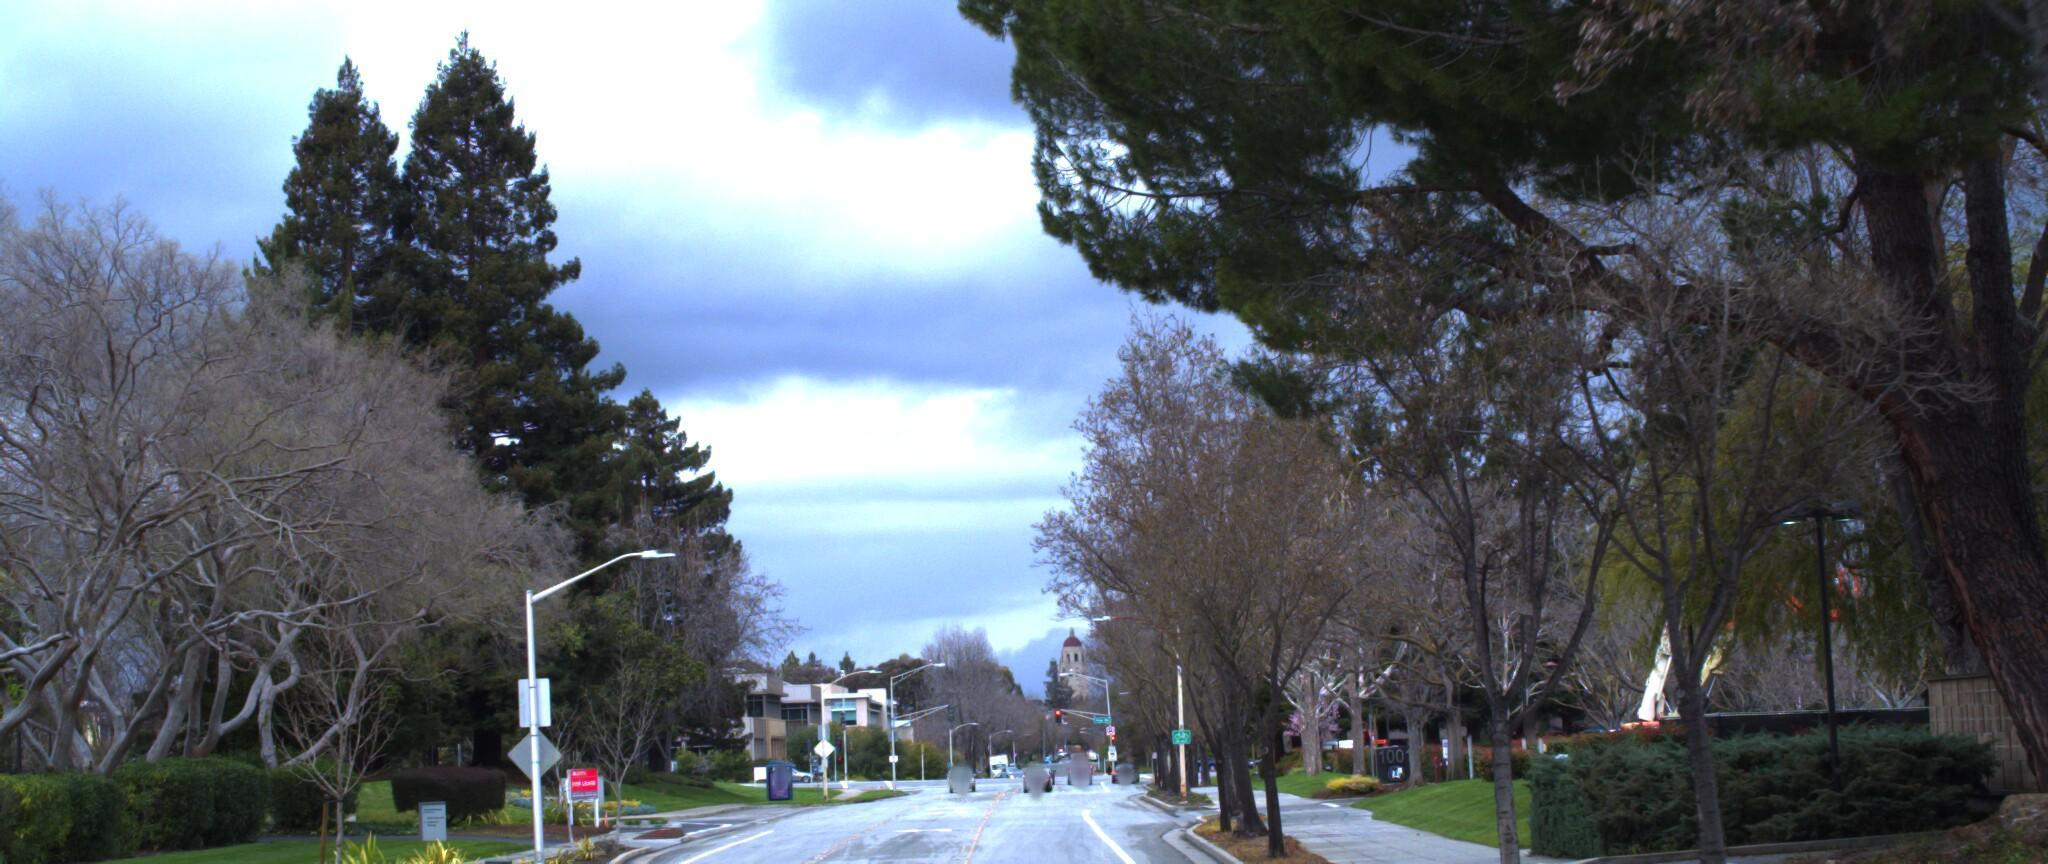other_vehicle: (1526, 449, 1758, 780), (1550, 559, 1863, 779)
